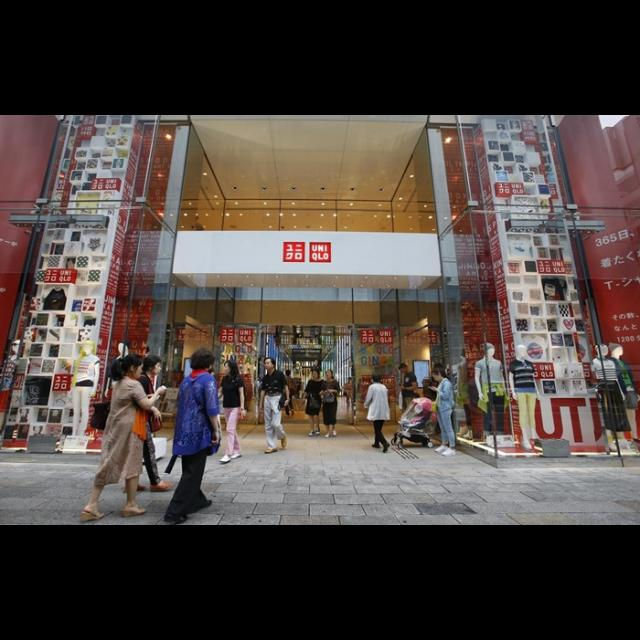head: (121, 354, 145, 381), (193, 351, 214, 371), (144, 355, 162, 377), (264, 358, 278, 374), (224, 361, 238, 375), (432, 368, 443, 384), (204, 368, 216, 382), (371, 374, 381, 384), (400, 364, 410, 374), (312, 371, 320, 382), (326, 370, 334, 380), (285, 370, 291, 378), (348, 378, 354, 382)
person: (78, 352, 168, 524), (119, 352, 178, 496), (258, 356, 292, 456), (218, 359, 248, 465), (427, 368, 457, 458), (193, 368, 223, 450), (363, 372, 392, 454), (301, 368, 327, 438), (396, 363, 420, 427), (320, 369, 342, 438), (282, 369, 298, 418), (342, 376, 353, 408)
